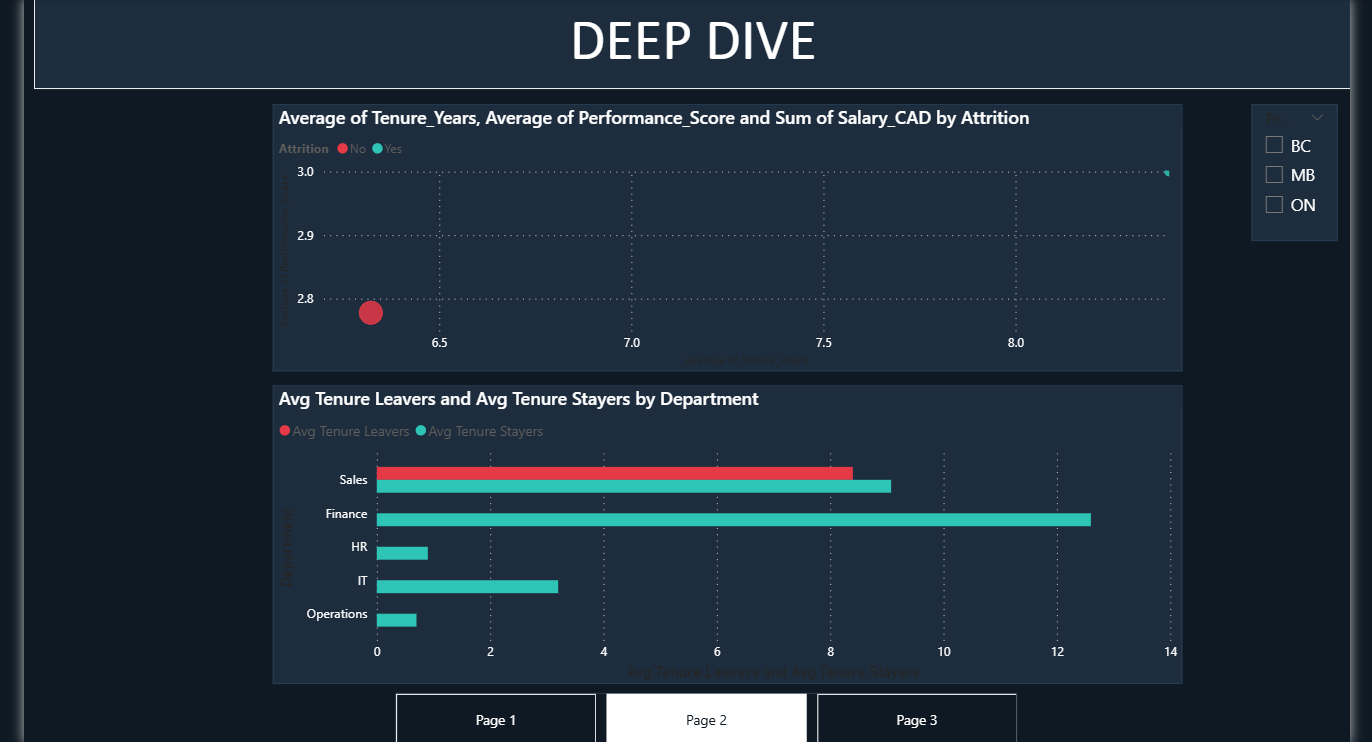

What the dashboard file says about the page in this screenshot:
{"tool":"powerbi","page":{"name":"Page 2","canvas":[1280,720],"ordinal":1},"visuals":[{"type":"textbox","box":[9.6,0,1270.7,87.8],"z":0},{"type":"scatterChart","fields":{"X":["Avg(HR_Attrition_Canada csv.Tenure_Years)"],"Y":["Avg(HR_Attrition_Canada csv.Performance_Score)"],"Series":["HR_Attrition_Canada csv.Attrition"],"Size":["Sum(HR_Attrition_Canada csv.Salary_CAD)"]},"box":[239.9,102.4,877.3,257.4],"z":1000},{"type":"clusteredBarChart","fields":{"Category":["HR_Attrition_Canada csv.Department"],"Y":["_Measures.Avg Tenure Leavers","_Measures.Avg Tenure Stayers"]},"box":[239.9,373.3,877.3,288.4],"z":2000},{"type":"slicer","fields":{"Values":["HR_Attrition_Canada csv.Province"]},"box":[1184.6,102.4,83.6,132.1],"z":3000},{"type":"pageNavigator","box":[358.5,671.1,599.7,48.5],"z":3001}]}

Visuals, with their boxes on the page's 1280x720 design canvas (x1, y1, x2, y2). These are canvas units, not pixel positions in the 1372x742 screenshot, which may show the page scaled, cropped or inside an application window:
textbox: region(10, 0, 1280, 88)
scatterChart - Avg(HR_Attrition_Canada csv.Tenure_Years) x Avg(HR_Attrition_Canada csv.Performance_Score): region(240, 102, 1117, 360)
clusteredBarChart - HR_Attrition_Canada csv.Department x _Measures.Avg Tenure Leavers: region(240, 373, 1117, 662)
slicer - HR_Attrition_Canada csv.Province: region(1185, 102, 1268, 234)
pageNavigator: region(358, 671, 958, 720)
